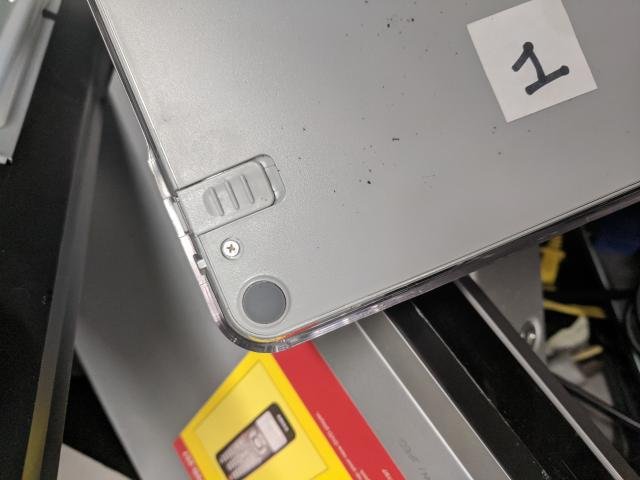CRS: (224, 240, 240, 257)
